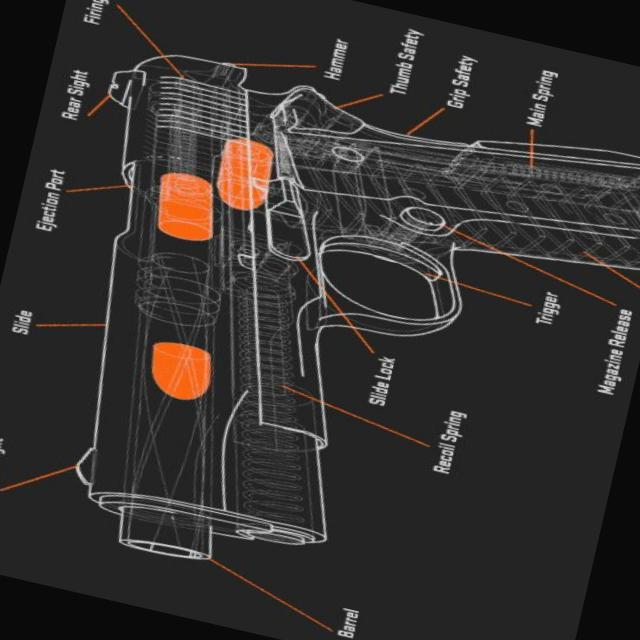handgun: (5, 30, 639, 639)
